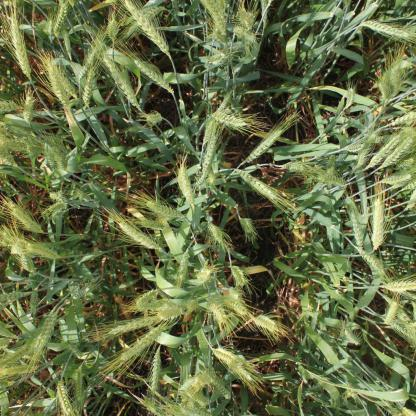whd: (121, 0, 171, 53), (99, 52, 142, 113), (364, 128, 412, 170), (118, 324, 170, 362), (4, 17, 33, 81), (131, 55, 175, 96), (234, 168, 282, 204), (125, 3, 168, 43), (242, 128, 284, 165), (113, 221, 162, 252), (379, 132, 415, 172), (380, 297, 416, 336), (8, 202, 45, 238), (108, 314, 164, 337), (357, 246, 392, 281), (45, 61, 70, 108), (358, 18, 411, 40), (39, 308, 64, 352), (32, 308, 56, 351), (76, 43, 100, 85), (199, 0, 227, 35), (370, 192, 386, 252), (176, 162, 196, 210), (9, 308, 30, 352), (53, 64, 78, 100), (145, 197, 185, 219), (19, 241, 61, 261), (82, 63, 100, 107), (216, 295, 250, 318), (211, 347, 244, 370), (6, 342, 40, 364), (205, 374, 233, 400), (0, 134, 34, 154), (54, 382, 74, 416), (213, 0, 230, 40), (204, 298, 229, 325), (202, 132, 218, 174), (134, 296, 176, 312), (386, 320, 416, 341), (381, 277, 416, 295), (214, 110, 249, 128), (6, 119, 38, 138), (349, 210, 364, 250), (52, 3, 69, 38), (379, 170, 414, 187), (314, 172, 347, 190), (228, 360, 255, 381), (151, 346, 163, 393), (131, 287, 160, 305), (356, 140, 374, 168), (381, 301, 400, 327), (389, 110, 416, 127), (21, 94, 36, 124), (20, 246, 36, 274), (1, 365, 38, 377), (238, 7, 256, 31), (392, 154, 416, 172), (386, 68, 400, 98), (156, 305, 182, 321), (0, 291, 34, 303), (192, 168, 210, 190), (254, 315, 278, 331), (178, 249, 190, 281), (65, 340, 85, 359), (350, 148, 364, 175), (206, 222, 224, 243), (210, 97, 228, 118), (179, 405, 213, 416), (46, 200, 69, 216), (231, 265, 247, 288), (342, 140, 368, 154), (227, 285, 246, 304), (259, 0, 271, 30), (74, 366, 84, 402), (324, 160, 337, 187), (140, 216, 165, 230), (0, 99, 23, 114), (343, 328, 362, 346), (0, 148, 18, 167), (62, 30, 73, 61), (15, 110, 49, 120), (206, 52, 227, 68), (392, 289, 416, 303), (192, 371, 214, 386), (54, 149, 68, 172), (105, 17, 119, 40), (367, 132, 390, 146), (232, 26, 253, 41), (404, 188, 416, 214), (203, 120, 214, 146), (378, 81, 392, 101), (343, 87, 355, 110), (282, 160, 305, 172), (196, 268, 214, 283), (25, 144, 44, 158), (190, 395, 210, 408), (147, 404, 168, 416), (28, 288, 39, 310), (390, 178, 410, 190), (0, 327, 20, 339), (73, 390, 89, 405), (239, 218, 254, 234), (147, 111, 163, 125), (0, 299, 17, 312), (73, 287, 91, 299), (2, 230, 20, 242), (184, 299, 200, 312), (387, 405, 405, 416), (345, 385, 359, 399), (213, 31, 227, 45), (402, 178, 416, 192), (75, 190, 91, 202), (408, 299, 415, 325), (0, 337, 14, 350), (52, 209, 67, 221), (46, 152, 56, 170), (398, 406, 416, 416), (0, 358, 14, 370), (26, 410, 54, 416), (185, 398, 201, 408), (0, 380, 16, 390), (0, 320, 15, 329), (208, 170, 217, 185), (0, 237, 12, 248), (46, 19, 54, 35), (48, 192, 62, 200), (128, 126, 142, 134), (0, 120, 9, 132), (0, 128, 10, 138), (342, 0, 352, 8), (58, 0, 66, 8), (68, 0, 75, 8), (267, 0, 275, 5)
